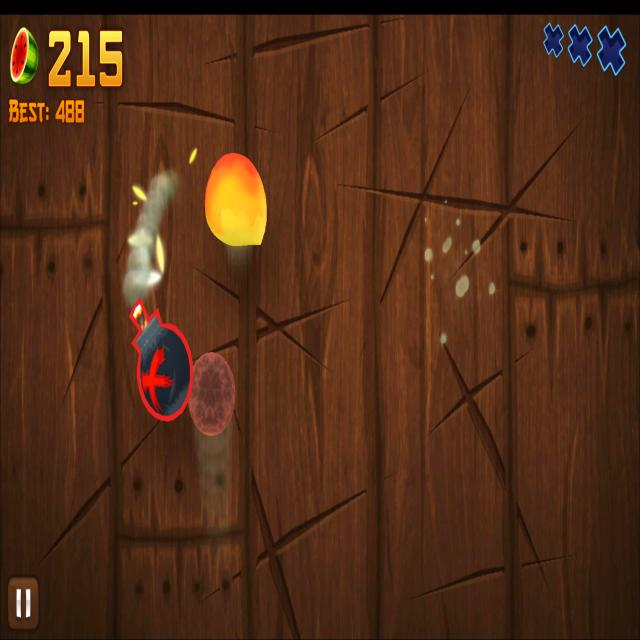bomb: (130, 297, 195, 421)
fruit: (204, 152, 268, 246), (188, 351, 236, 436)
